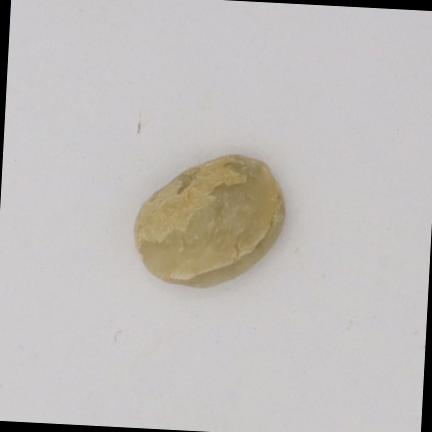husk: (136, 155, 284, 285)
